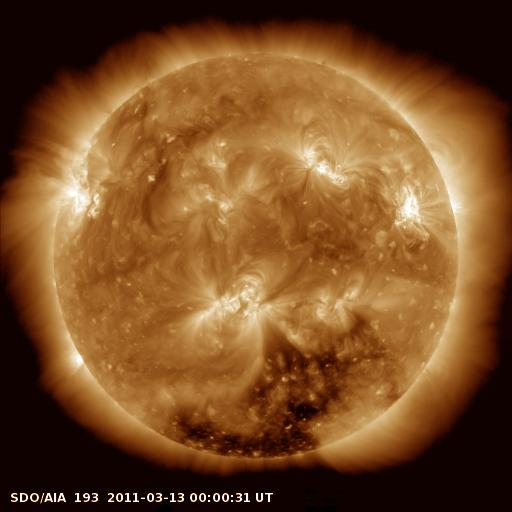coronal_hole: (162, 317, 376, 468)
